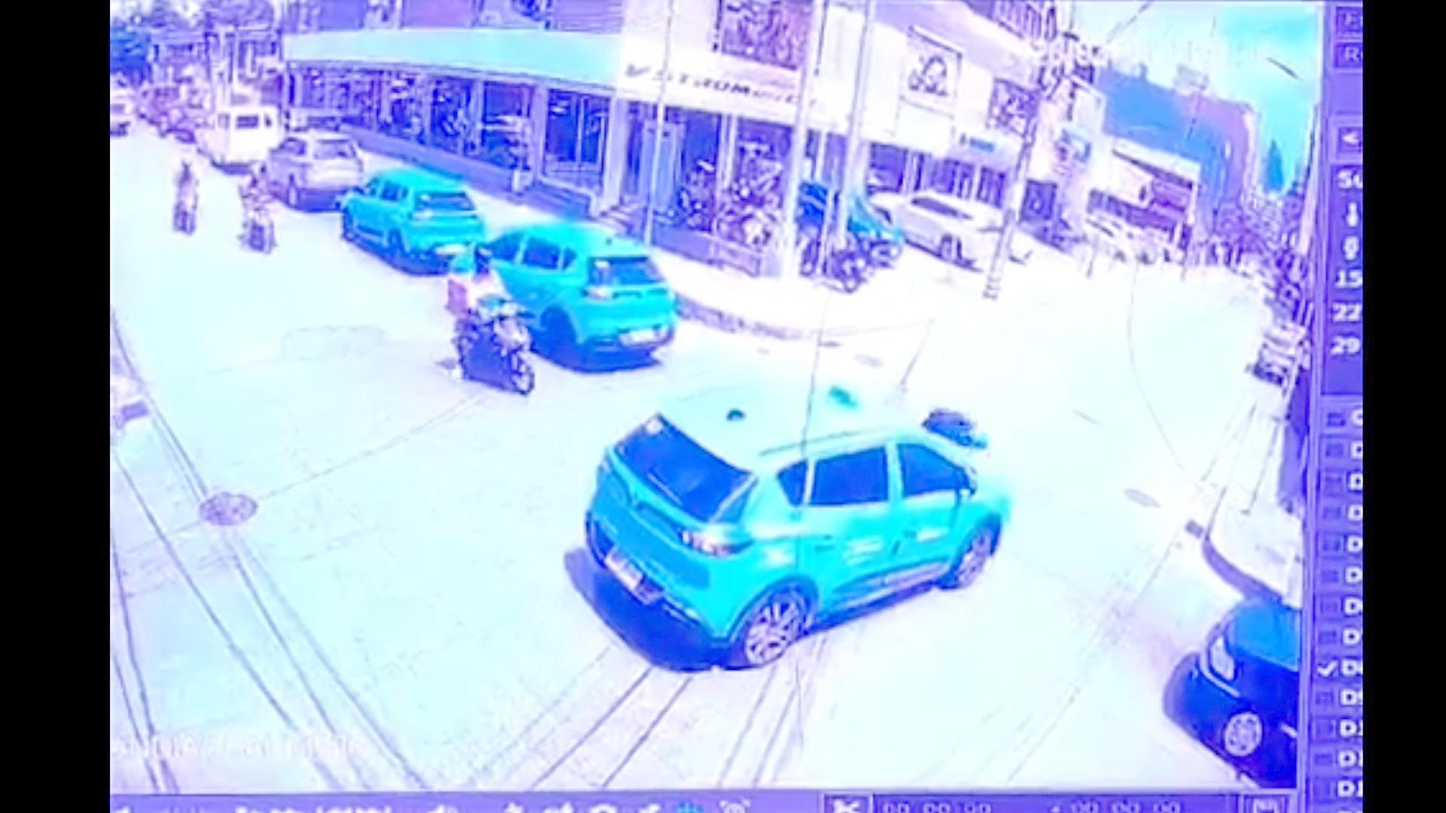Car: (584, 383, 1009, 670), (462, 219, 678, 370), (1163, 592, 1301, 786), (334, 165, 480, 268), (875, 190, 1021, 268), (792, 179, 907, 272), (262, 131, 365, 209), (196, 105, 283, 172), (1081, 212, 1169, 265), (1252, 318, 1311, 385), (138, 84, 192, 134), (110, 88, 135, 136)
Minor Accident: (581, 381, 1010, 672)
Motor: (446, 243, 526, 389), (889, 388, 1003, 460), (793, 224, 873, 293), (238, 166, 277, 249), (172, 159, 201, 233)
